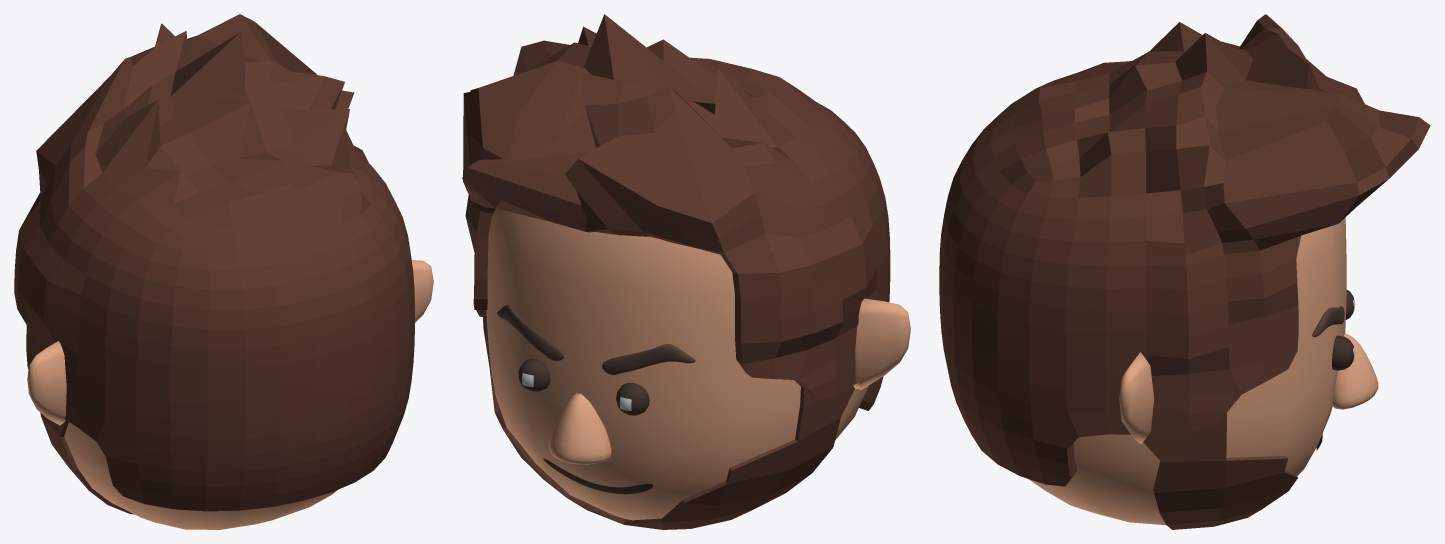
File: Messi.glb
3 renders of one model, left to right at view 1: azimuth 30°, elevation 25°; view 2: azimuth 150°, elevation 25°; view 3: azimuth 270°, elevation 25°, orthographic. The views are drawn at different scales.
Visible parts, largest first — view 1: Messi; view 2: Messi; view 3: Messi.
Boxes of the visible parts, <box> form: Messi: <box>14,14,433,529</box>; Messi: <box>462,14,910,529</box>; Messi: <box>939,14,1430,529</box>.
Size of the model in its own units: 2.93 by 3.18 by 2.83.
